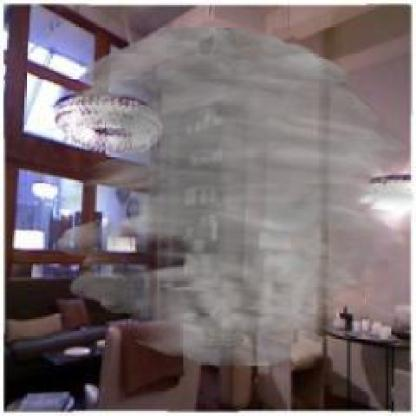Smoke: (55, 26, 414, 367)
